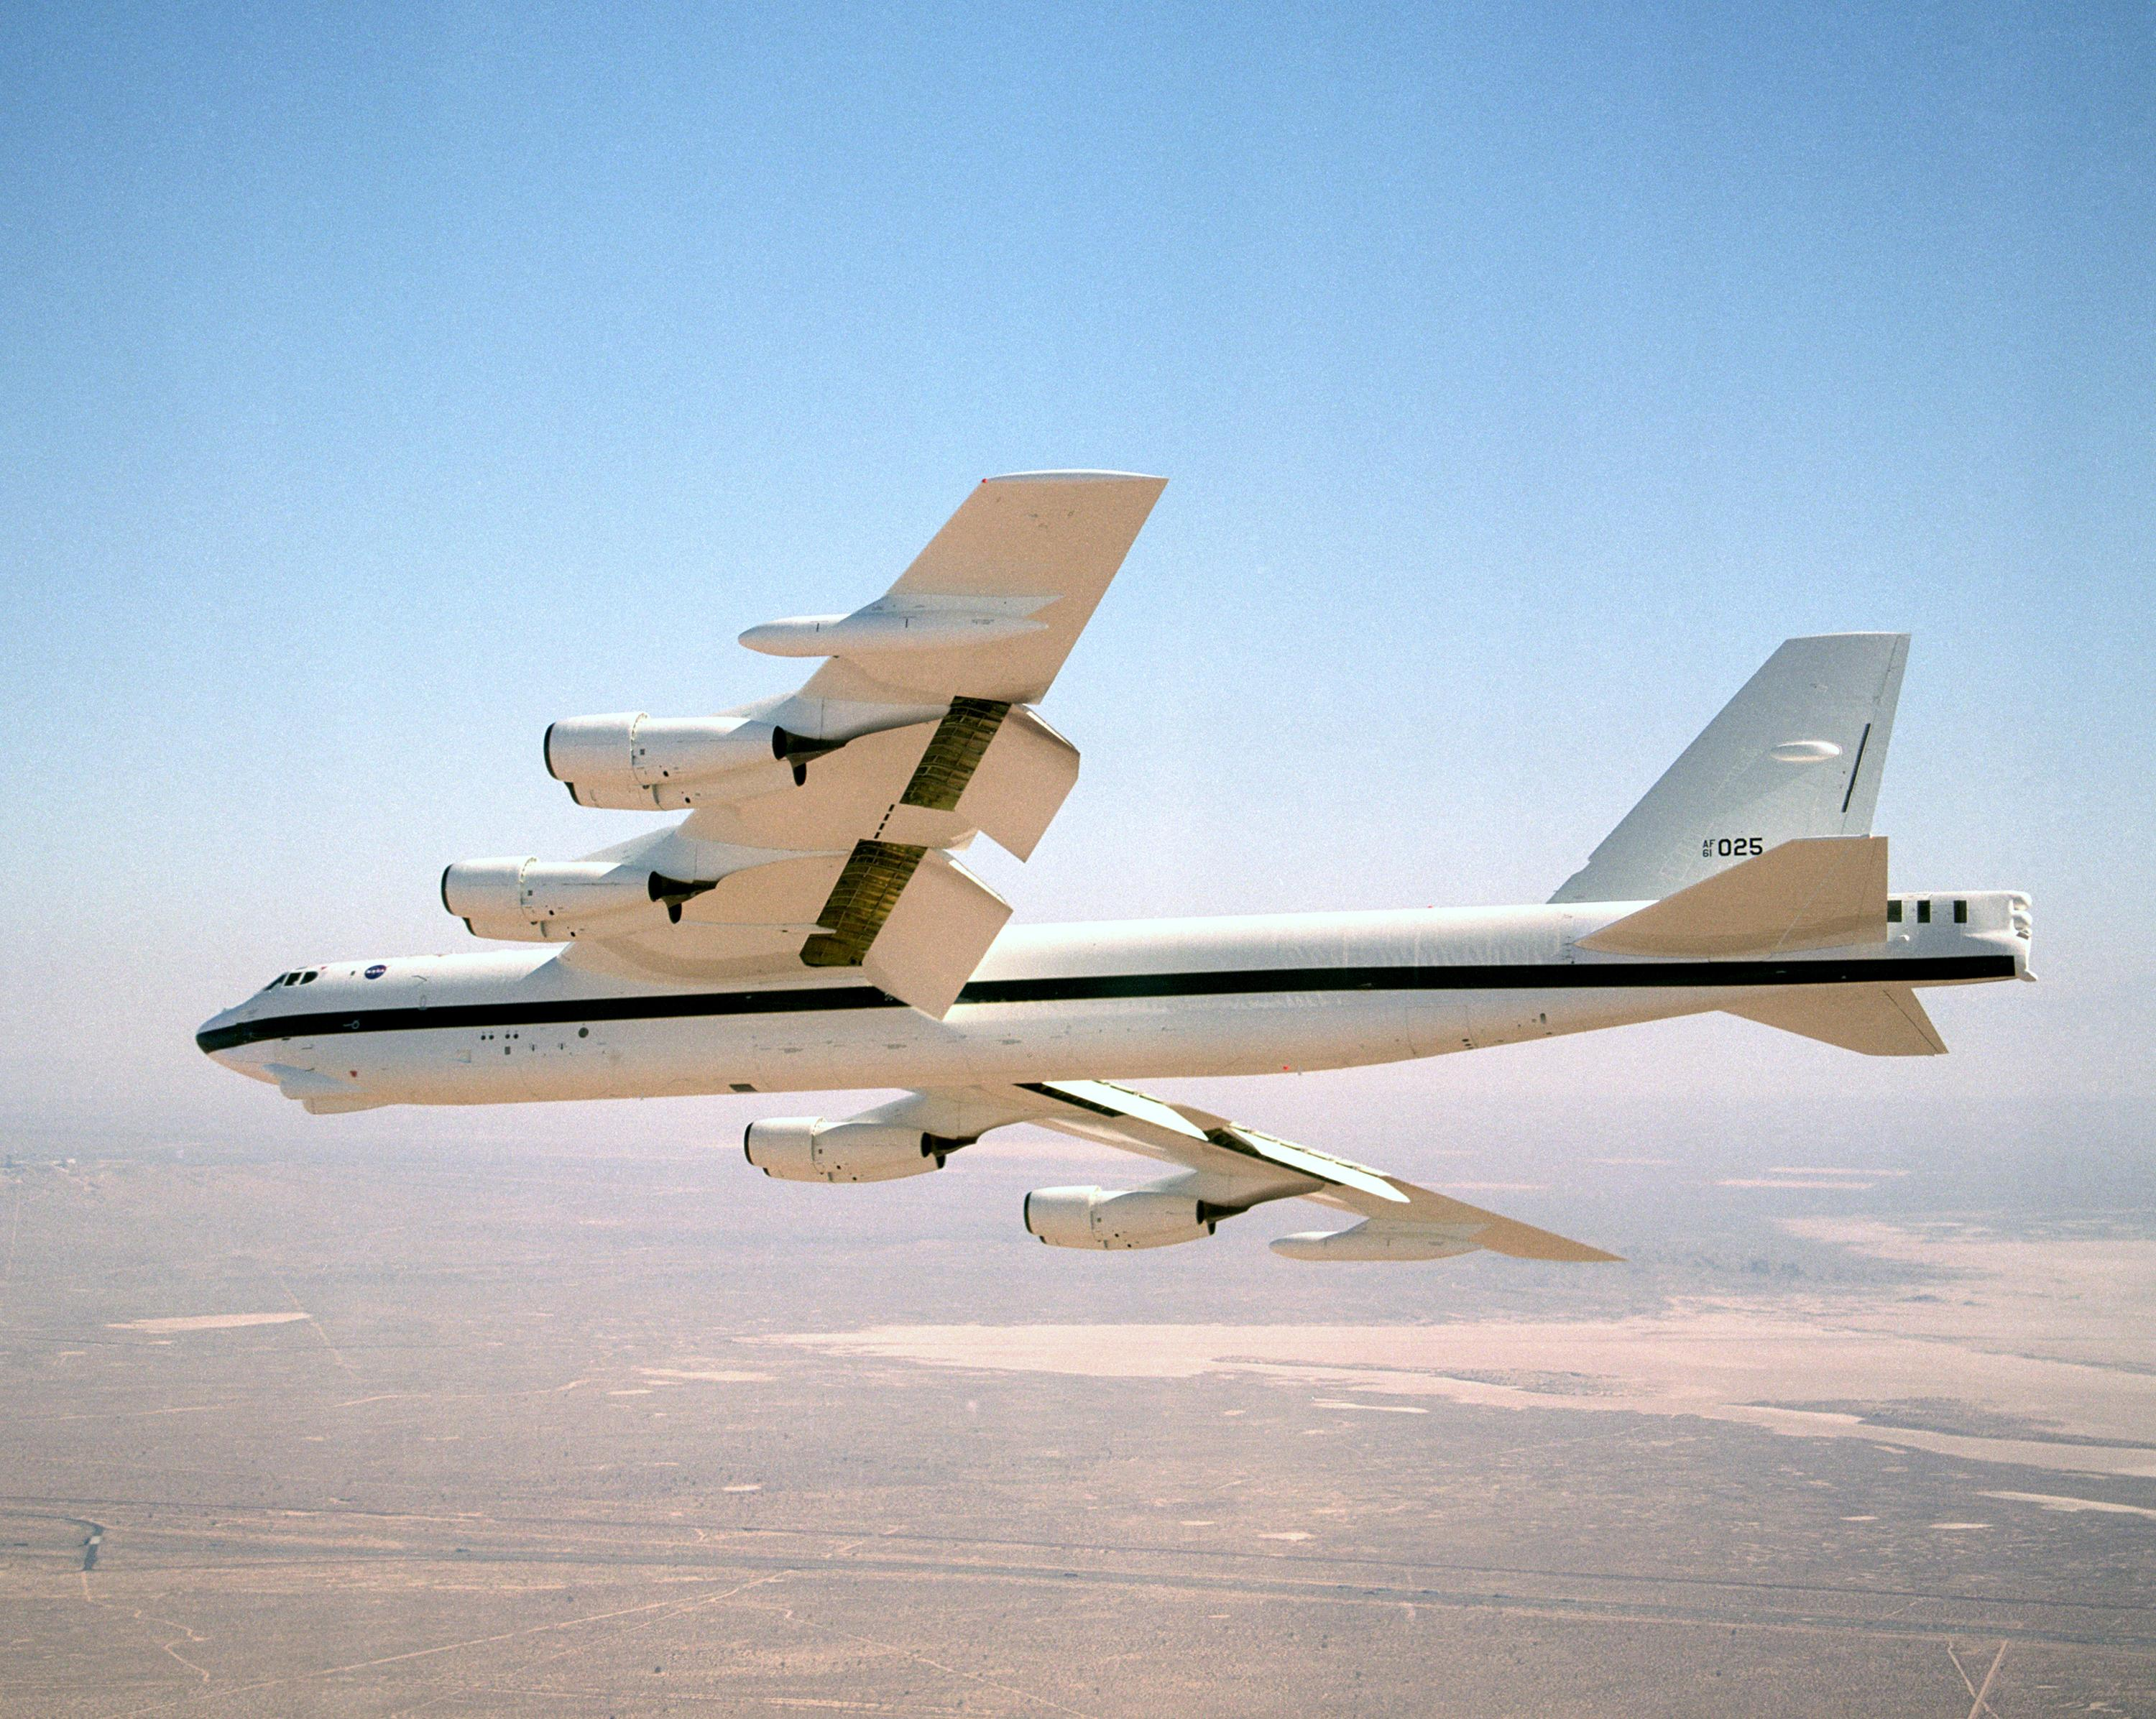B52: (195, 468, 2038, 1261)
